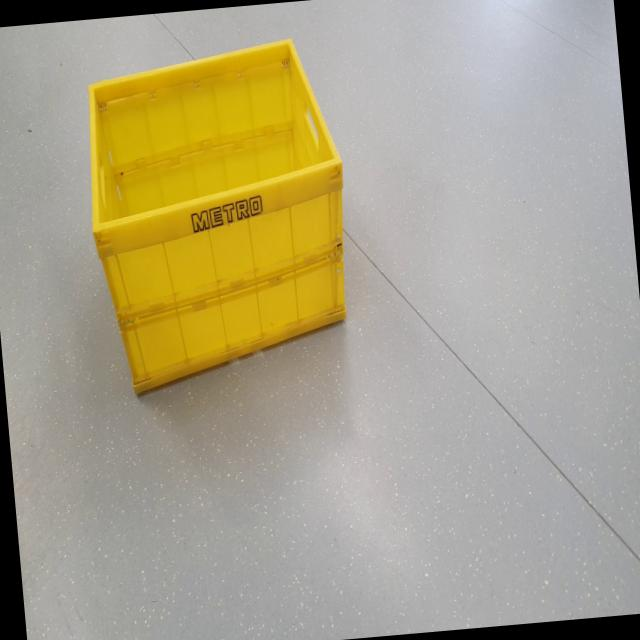box: (69, 16, 368, 422)
